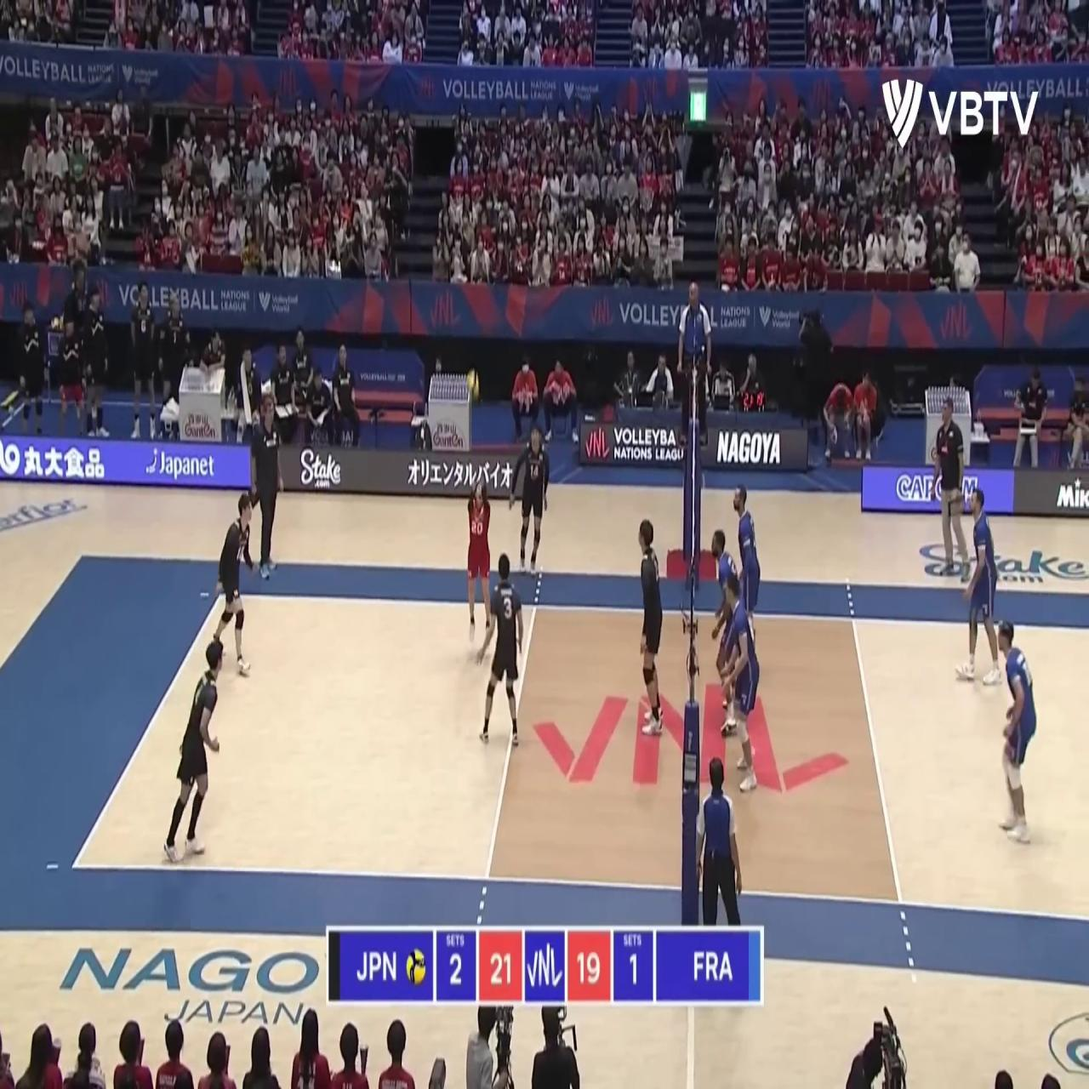ball: (466, 370, 481, 400)
